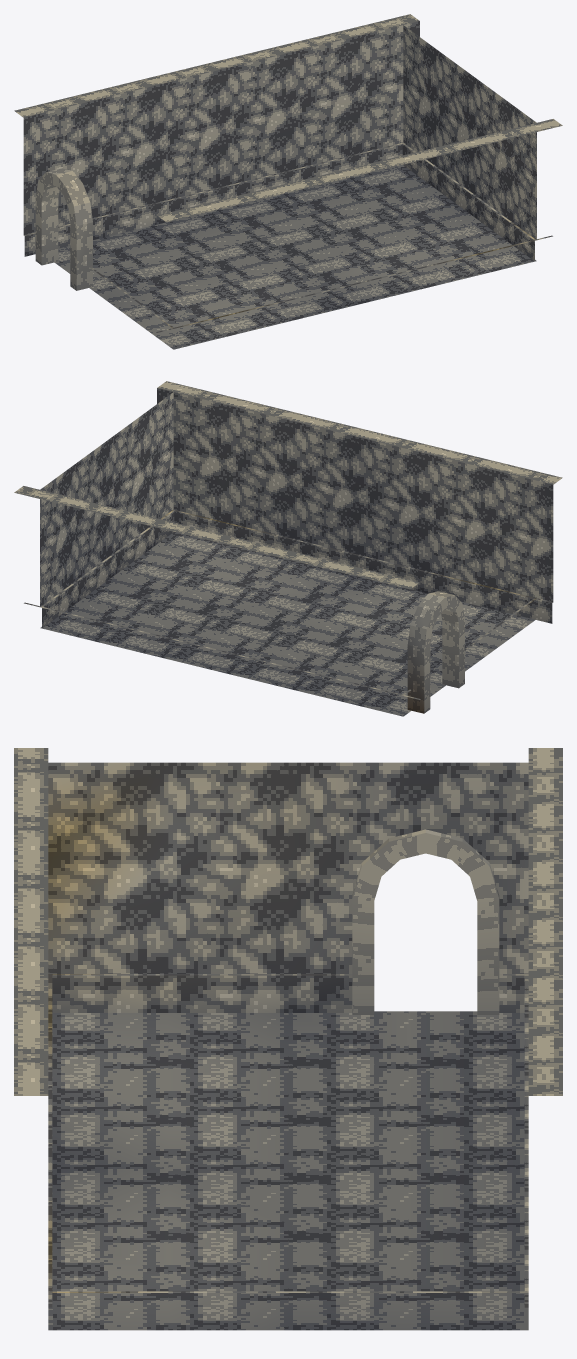
The model's file is cst.hall__dungeon.glb.
3 views of the same model, one above another, from view 1: azimuth 30°, elevation 25°; view 2: azimuth 150°, elevation 25°; view 3: azimuth 270°, elevation 25° (orthographic). The views are drawn at different scales.
Parts seen in each view (by area): view 1: kit_shell_walls, kit_shell_floor, kit_fittings; view 2: kit_shell_walls, kit_shell_floor, kit_fittings; view 3: kit_shell_floor, kit_shell_walls, kit_fittings.
Boxes of the visible parts, x1,y1,x2,y2 form: kit_shell_walls: (14, 14, 562, 332); kit_shell_floor: (54, 165, 536, 349); kit_fittings: (35, 168, 92, 290); kit_shell_walls: (14, 381, 562, 699); kit_shell_floor: (40, 532, 535, 716); kit_fittings: (407, 591, 464, 713); kit_shell_floor: (48, 1011, 528, 1330); kit_shell_walls: (14, 748, 562, 1307); kit_fittings: (352, 829, 499, 1014).
Size of the model in its own units: 12 by 4 by 8.
4 materials, 4 textured.
